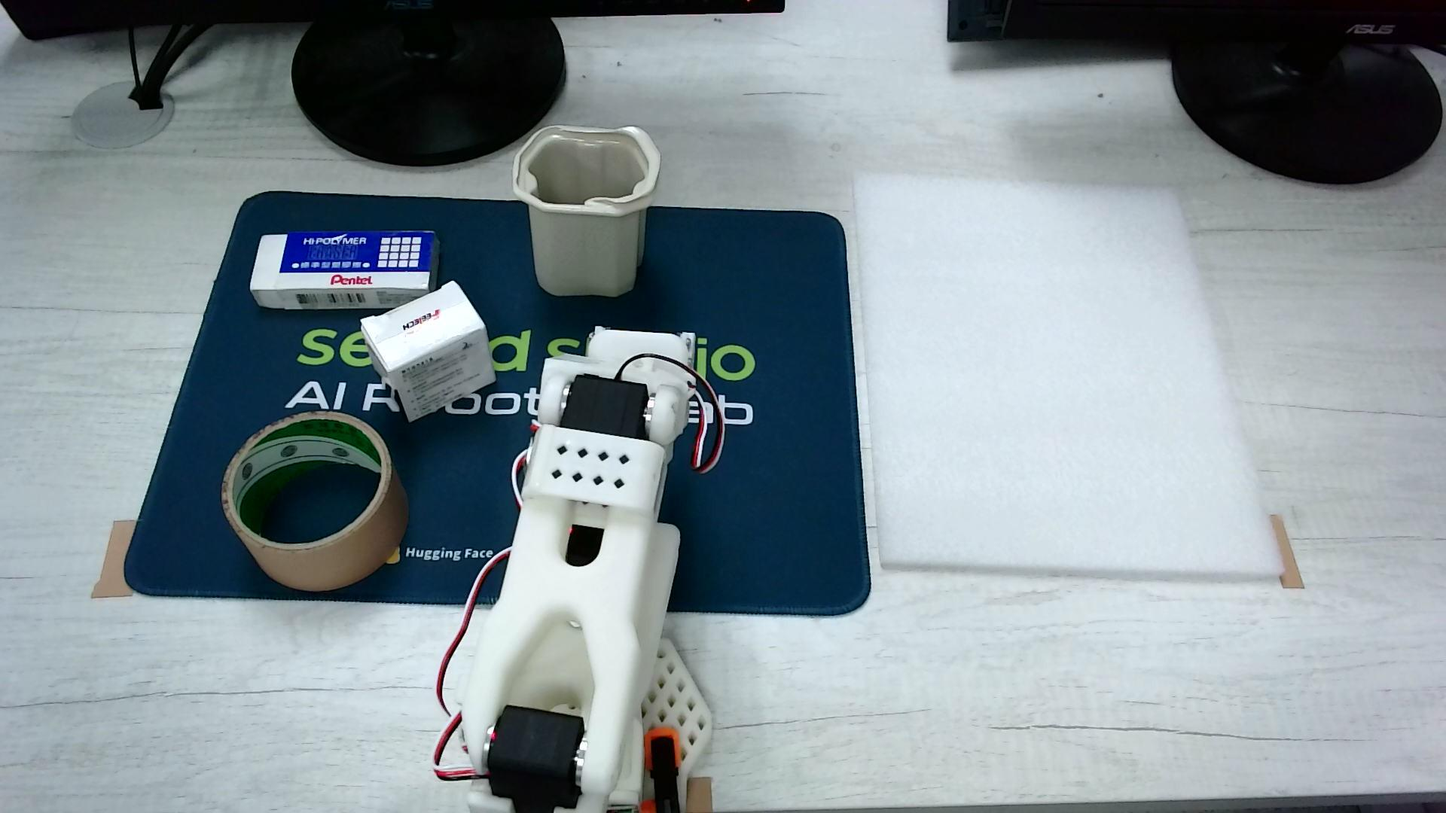eraser: (361, 282, 495, 421)
